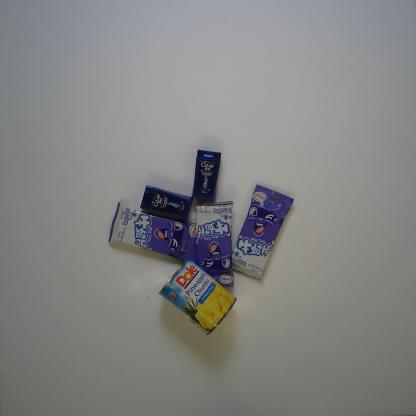Candy: (224, 182, 294, 280), (106, 201, 208, 266), (193, 199, 236, 288)
Canned Food: (156, 258, 237, 336)
Personal Hygiene: (139, 184, 195, 221), (190, 148, 223, 204)
